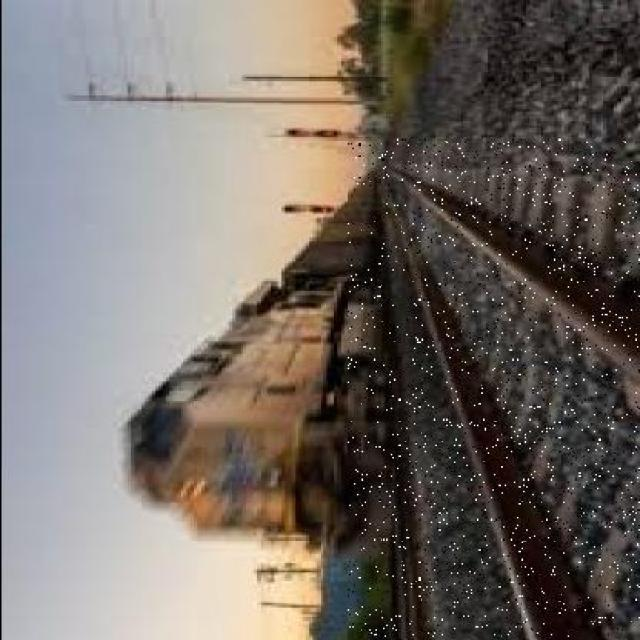rail: (348, 140, 639, 638)
